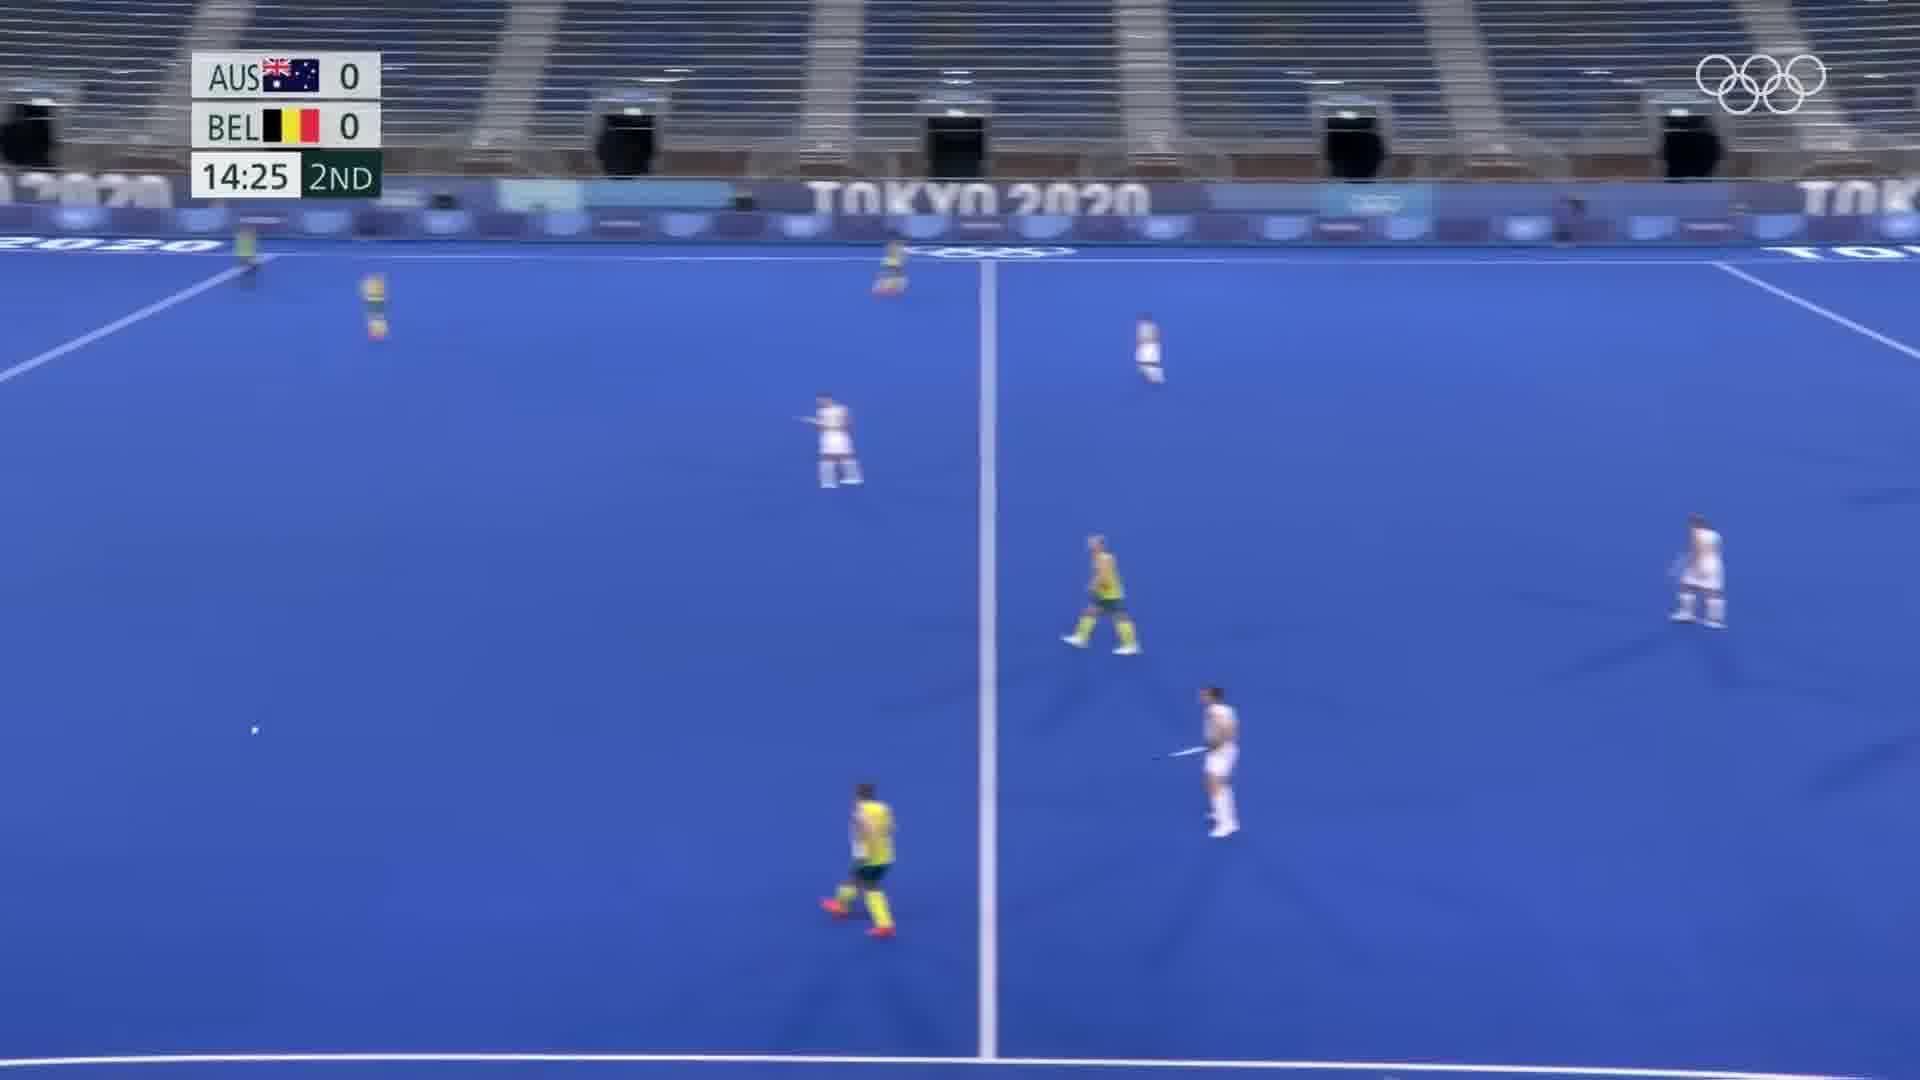ball: (244, 717, 270, 748)
